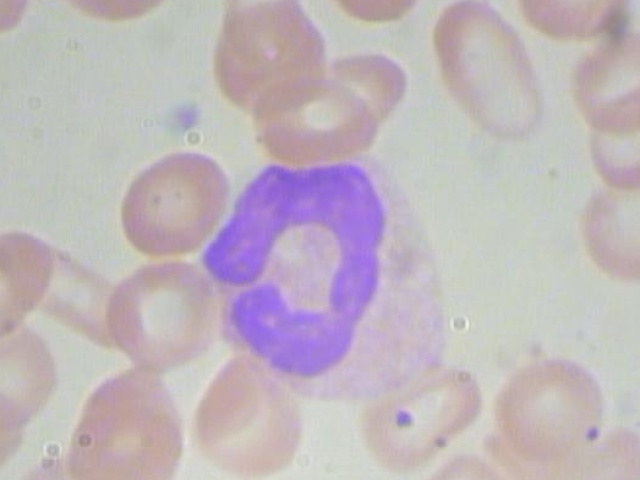RBC: (175, 347, 310, 480), (427, 0, 547, 146), (60, 364, 198, 480), (107, 148, 242, 263), (101, 255, 235, 370), (358, 363, 485, 473), (490, 349, 609, 466), (246, 74, 384, 163), (574, 159, 640, 284), (564, 31, 640, 139), (0, 221, 52, 346), (224, 0, 305, 75), (512, 0, 640, 43)
WBC: (185, 150, 452, 401)
